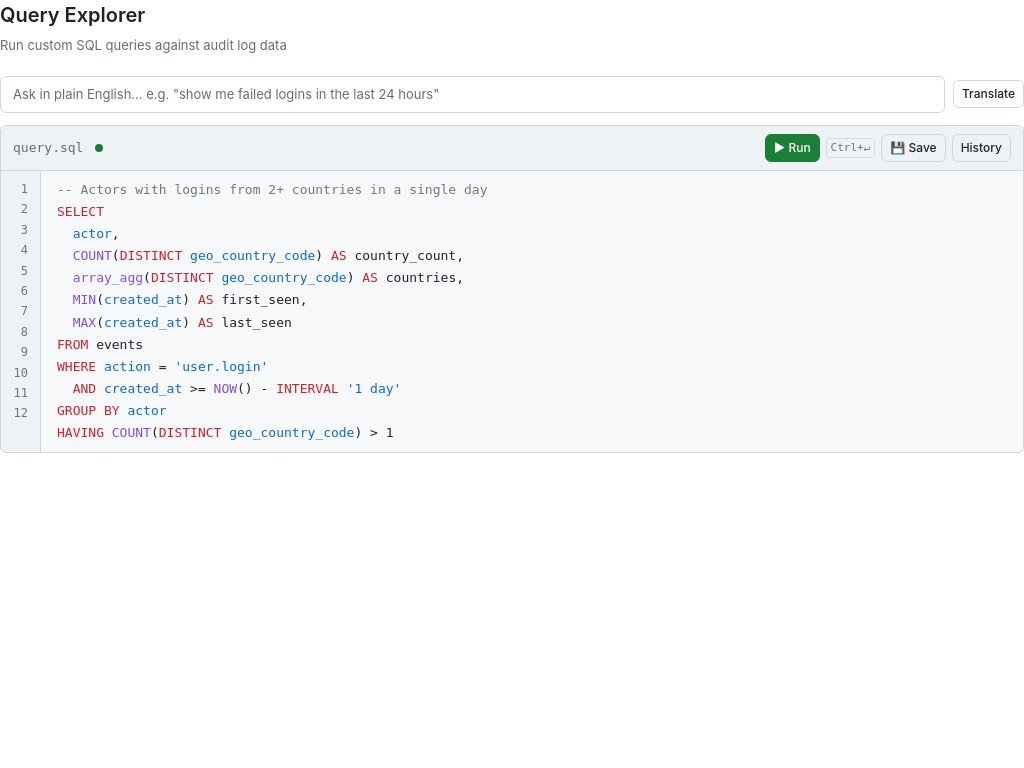
QueryPage › opens save modal when Save button is clicked in toolbar
What coordinates should you click on to do the following:
click the button "💾 Save"
I would click on:
 (914, 148)
Its box is x1=881 y1=134 x2=946 y2=162.
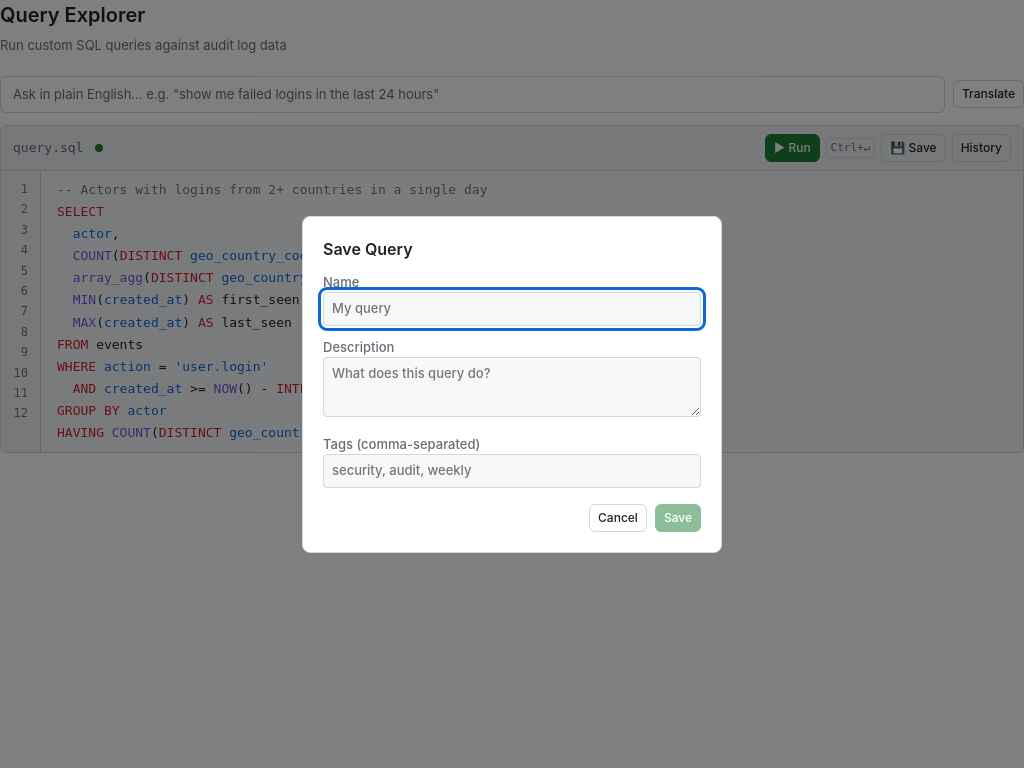
Result: the heading "Save Query" is shown at x1=323 y1=238 x2=413 y2=258
Result: the field with placeholder "My query" is shown at x1=323 y1=292 x2=701 y2=326
